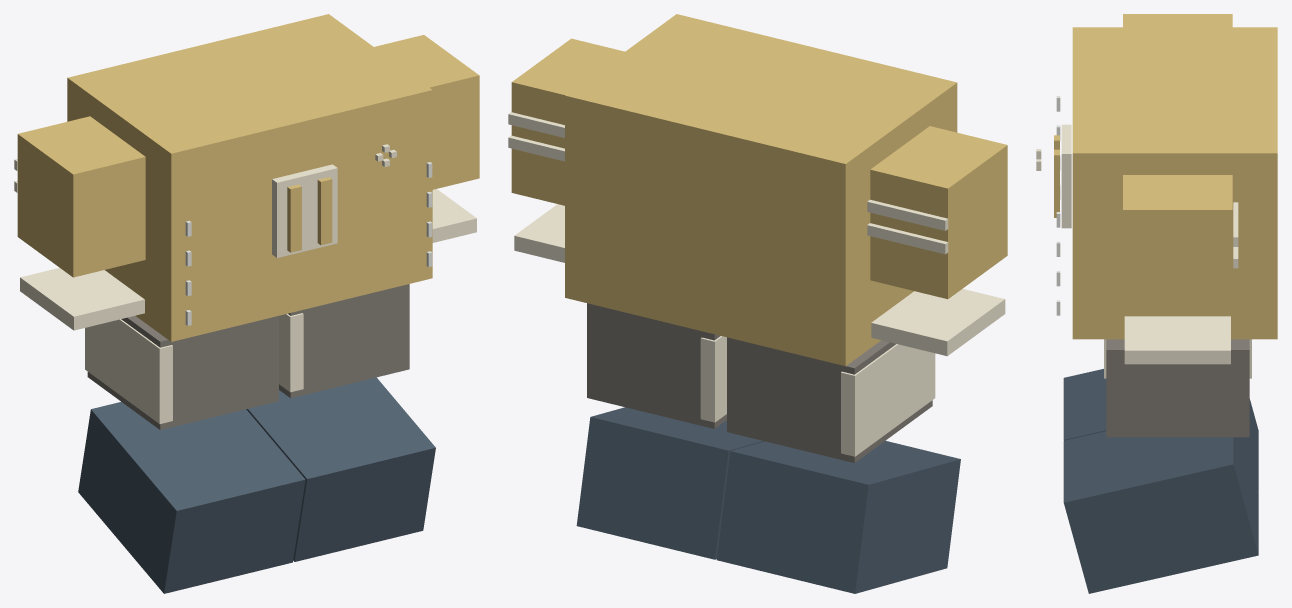
File: sport-amber.glb
3 renders of one model, left to right at view 1: azimuth 30°, elevation 25°; view 2: azimuth 150°, elevation 25°; view 3: azimuth 270°, elevation 25°, orthographic. The views are drawn at different scales.
Visible parts, largest first — view 1: jacket, shoe-Right, shoe-Left, upper-sleeve-Right, trouser-Right, trouser-Left, upper-sleeve-Left, shorts-stripe-Right, cuff-Right, jersey-number, shorts-stripe-Left, cuff-Left (+2 smaller); view 2: jacket, shoe-Right, shoe-Left, upper-sleeve-Right, trouser-Right, trouser-Left, upper-sleeve-Left, shorts-stripe-Right, cuff-Right, shorts-stripe-Left, cuff-Left, design-sport-shoulder-stripe-Right-0 (+3 smaller); view 3: jacket, shoe-Left, upper-sleeve-Left, trouser-Left, cuff-Left, shoe-Right, upper-sleeve-Right, jersey-number, design-sport-number-eleven-0.025.
Part boxes in pixels (left/top/right/bottom): jacket: left=67, top=14, right=432, bottom=341; shoe-Right: left=78, top=402, right=305, bottom=593; shoe-Left: left=246, top=377, right=435, bottom=561; upper-sleeve-Right: left=17, top=116, right=145, bottom=277; trouser-Right: left=87, top=316, right=278, bottom=429; trouser-Left: left=279, top=284, right=409, bottom=398; upper-sleeve-Left: left=374, top=35, right=479, bottom=189; shorts-stripe-Right: left=85, top=319, right=172, bottom=423; cuff-Right: left=20, top=267, right=144, bottom=330; jersey-number: left=272, top=164, right=337, bottom=257; shorts-stripe-Left: left=279, top=313, right=303, bottom=392; cuff-Left: left=432, top=189, right=476, bottom=242; jacket: left=565, top=14, right=957, bottom=366; shoe-Right: left=717, top=440, right=960, bottom=593; shoe-Left: left=576, top=407, right=764, bottom=559; upper-sleeve-Right: left=870, top=126, right=1007, bottom=299; trouser-Right: left=727, top=337, right=932, bottom=462; trouser-Left: left=587, top=303, right=726, bottom=428; upper-sleeve-Left: left=511, top=38, right=624, bottom=205; shorts-stripe-Right: left=841, top=344, right=935, bottom=456; cuff-Right: left=871, top=288, right=1005, bottom=356; shorts-stripe-Left: left=700, top=336, right=726, bottom=422; cuff-Left: left=514, top=204, right=564, bottom=262; design-sport-shoulder-stripe-Right-0: left=867, top=199, right=948, bottom=230; jacket: left=1072, top=27, right=1277, bottom=339; shoe-Left: left=1063, top=431, right=1258, bottom=593; upper-sleeve-Left: left=1123, top=175, right=1232, bottom=311; trouser-Left: left=1106, top=339, right=1249, bottom=437; cuff-Left: left=1124, top=316, right=1230, bottom=364; shoe-Right: left=1063, top=369, right=1258, bottom=492; upper-sleeve-Right: left=1123, top=14, right=1232, bottom=27; jersey-number: left=1061, top=124, right=1071, bottom=228; design-sport-number-eleven-0.025: left=1054, top=149, right=1059, bottom=217.
Bounding box in the file's own units: 1.07 × 1.13 × 0.559.
